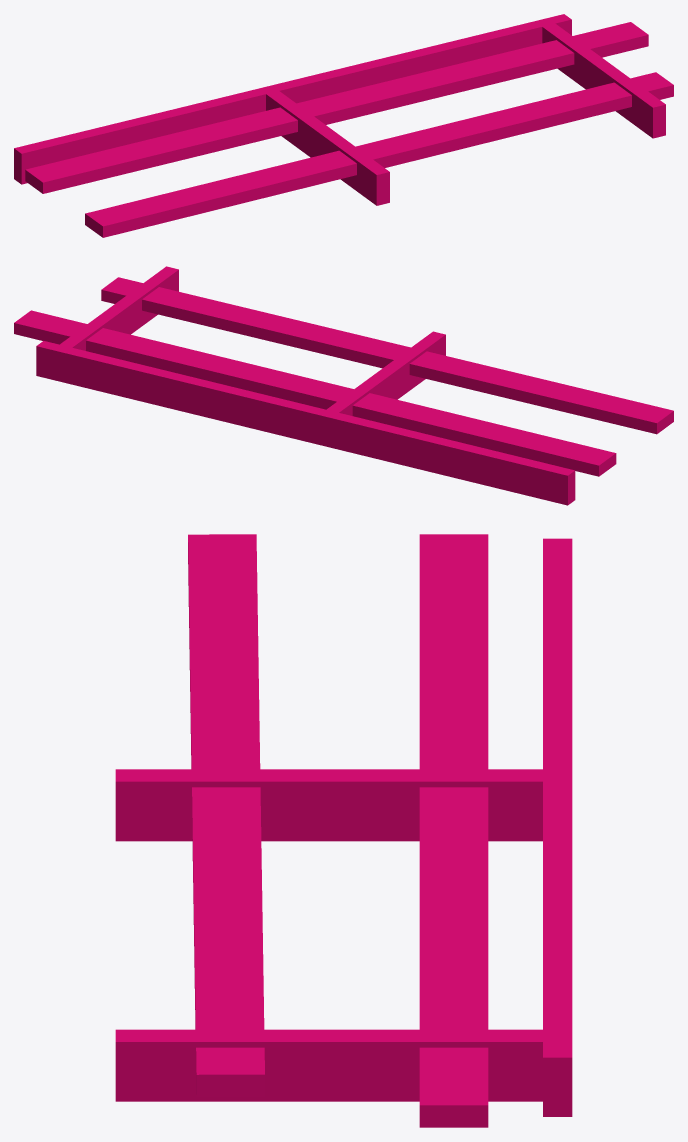
The model's file is House_Wood_Debris_08.fbx.
3 renders of one model, top to bottom at view 1: azimuth 30°, elevation 25°; view 2: azimuth 150°, elevation 25°; view 3: azimuth 270°, elevation 25°, orthographic. The views are drawn at different scales.
Parts seen in each view (by area): view 1: House_Wood_Debris_08; view 2: House_Wood_Debris_08; view 3: House_Wood_Debris_08.
Boxes of the visible parts, <box> form: House_Wood_Debris_08: <box>14,14,673,237</box>; House_Wood_Debris_08: <box>14,266,673,505</box>; House_Wood_Debris_08: <box>115,534,572,1127</box>.
Size of the model in its own units: 194 by 9.45 by 65.65.
